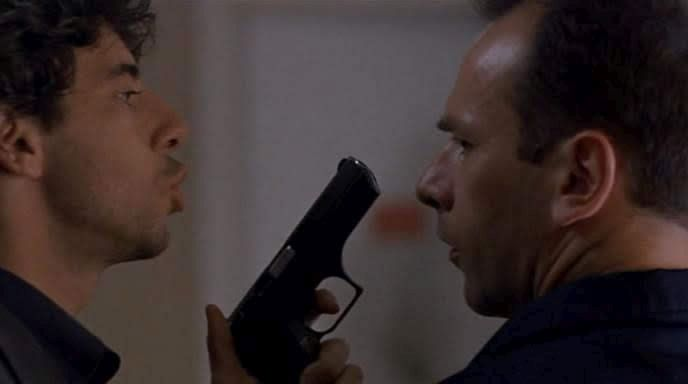gun: (212, 145, 412, 353)
